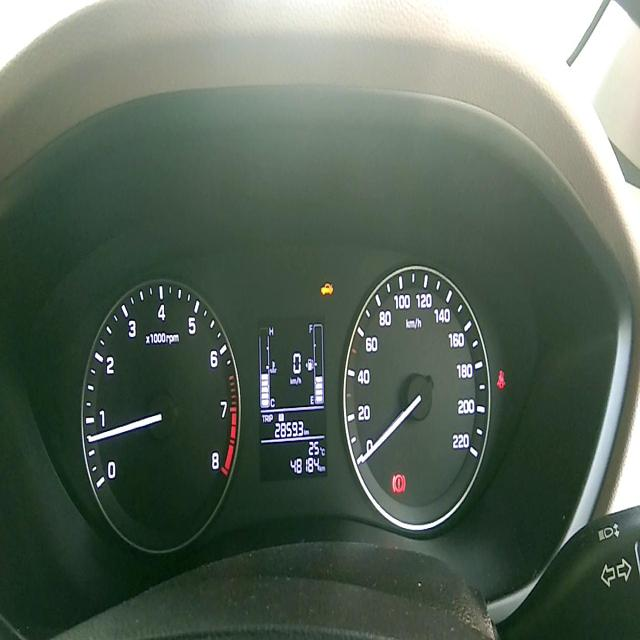odometer: (285, 455, 322, 479)
